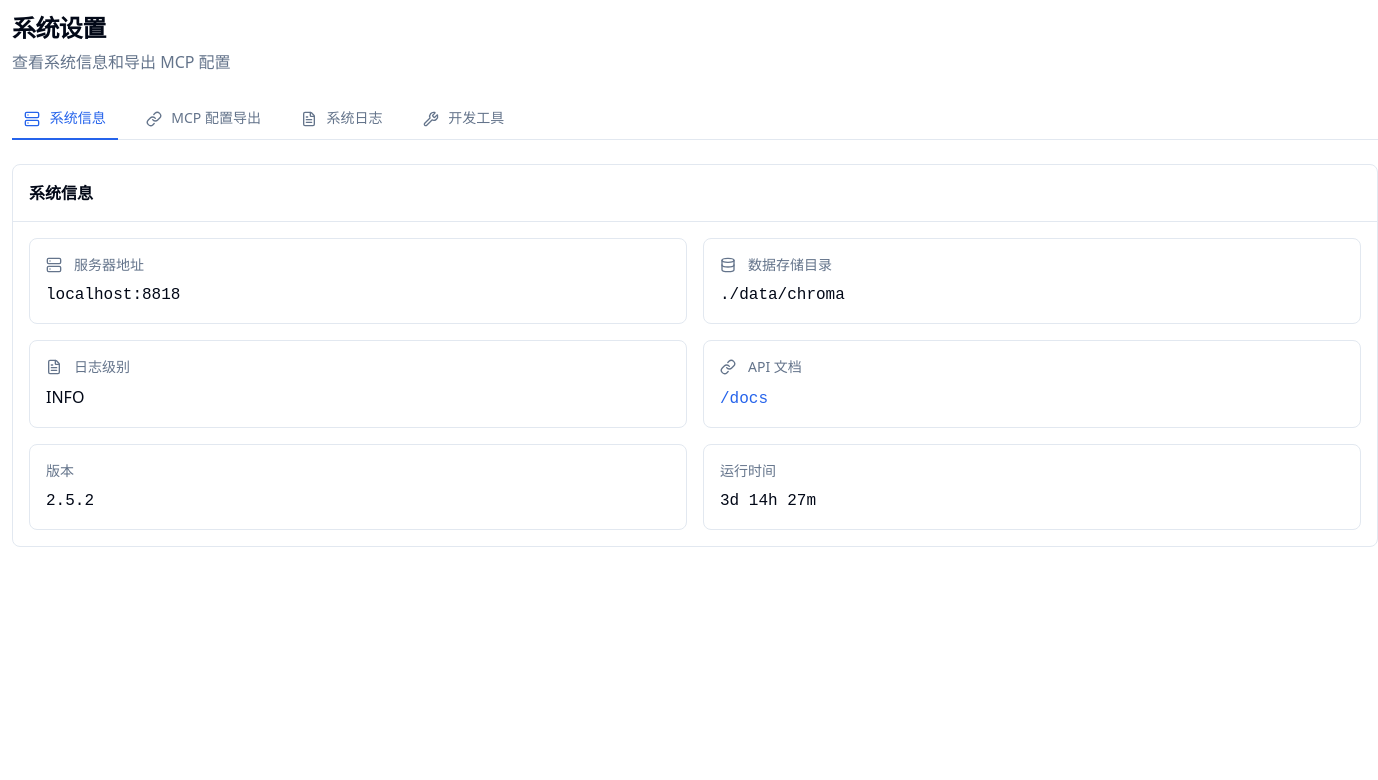
Test: Settings.vue › should switch to DevTools tab when clicked
Click DevTools tab
Click the button "开发工具".
click(463, 119)  # box x1=411 y1=98 x2=516 y2=140
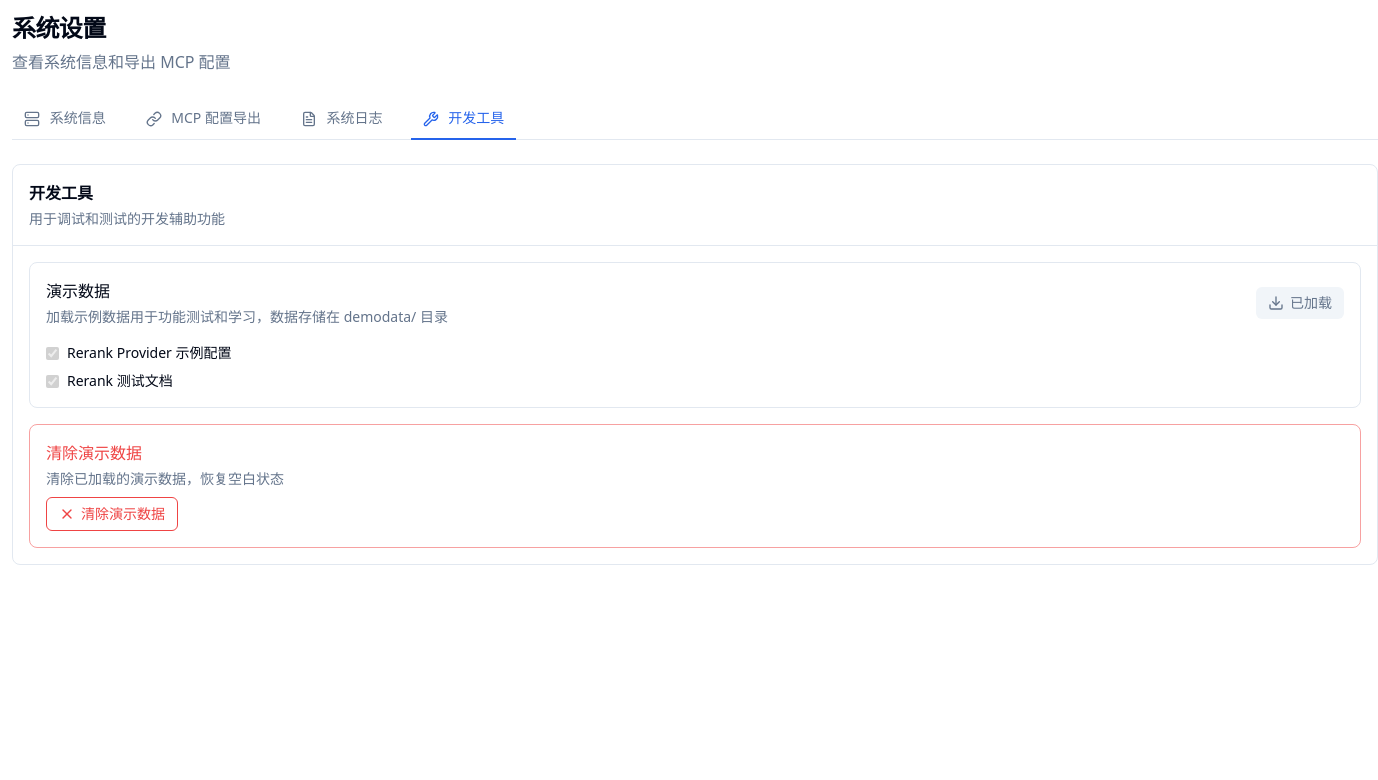
expect the text "示例数据" is shown: met, box x1=46 y1=307 x2=448 y2=326
